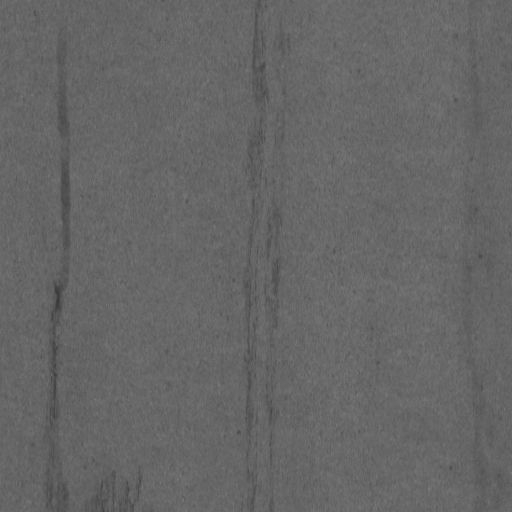zongxianghuashang: (46, 26, 73, 512), (245, 2, 264, 512)
